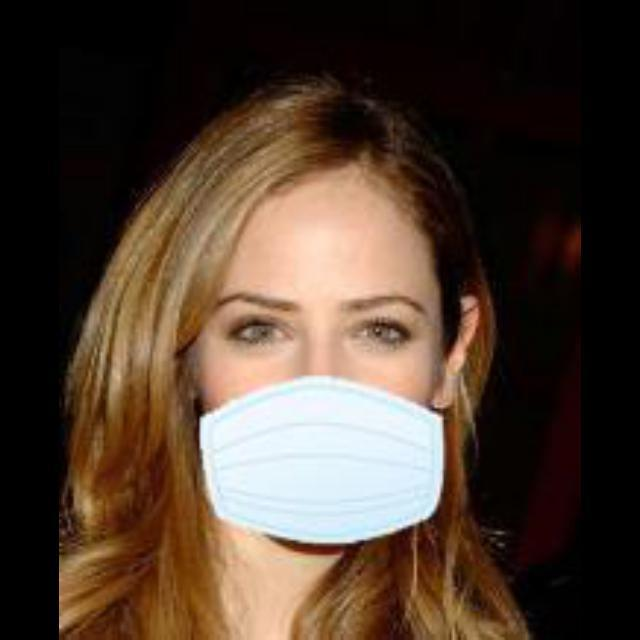suspicion: (134, 112, 488, 530)
